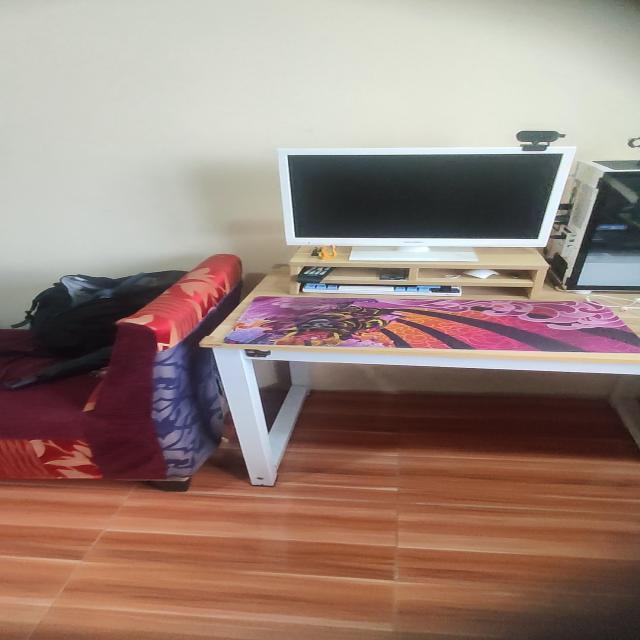table: (194, 262, 640, 488)
